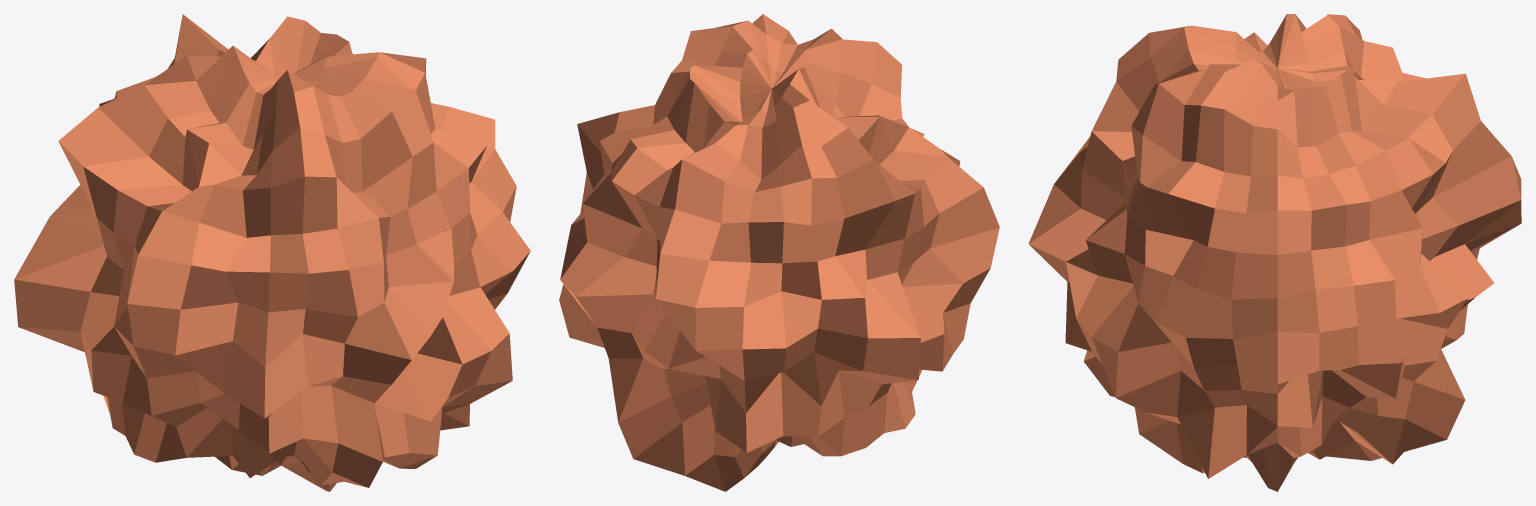
Rendered from meteoro3.fbx.
3 views of the same model, side by side, from view 1: azimuth 30°, elevation 25°; view 2: azimuth 150°, elevation 25°; view 3: azimuth 270°, elevation 25° (orthographic). The views are drawn at different scales.
Visible parts, largest first — view 1: Esfera.002; view 2: Esfera.002; view 3: Esfera.002.
Part boxes in pixels (box(x1,y1,x2,y2)): Esfera.002: box(14, 14, 530, 491); Esfera.002: box(559, 14, 999, 491); Esfera.002: box(1028, 14, 1521, 491).
Bounding box in the file's own units: 192 × 196 × 200.
